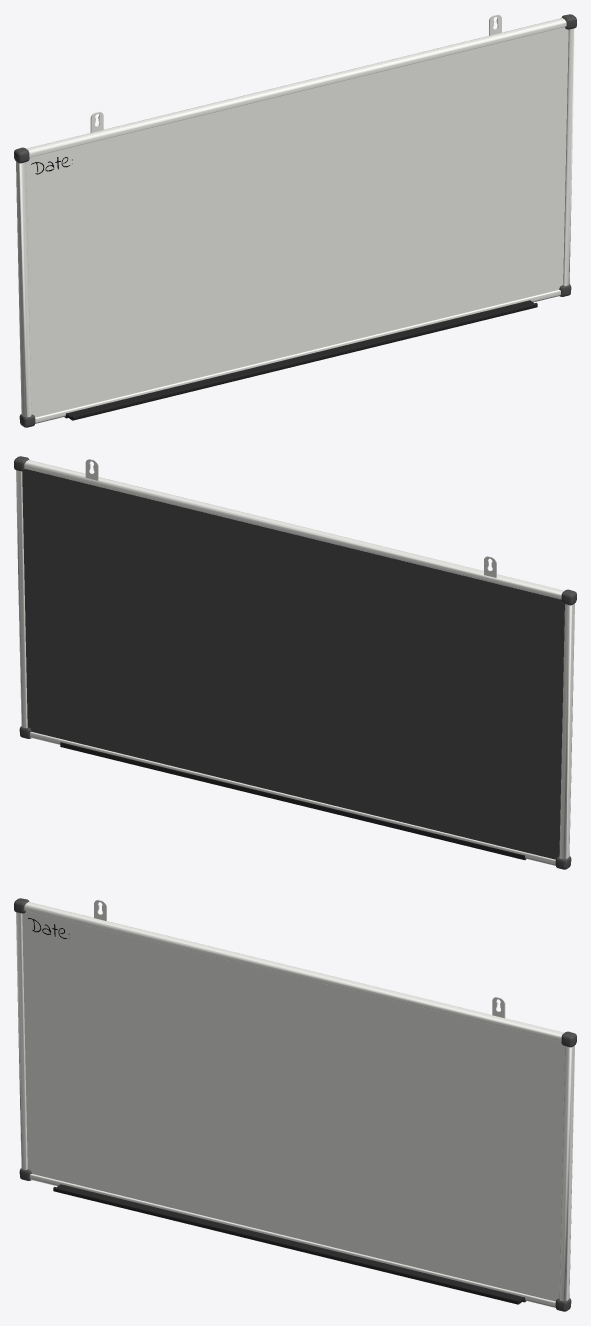
3 views of the same model, one above another, from view 1: azimuth 30°, elevation 25°; view 2: azimuth 150°, elevation 25°; view 3: azimuth 330°, elevation 25° (orthographic).
Parts seen in each view (by area): view 1: White_board; view 2: White_board; view 3: White_board.
Boxes of the visible parts, box(x1,y1,x2,y2) form: White_board: box(14, 14, 576, 427); White_board: box(14, 456, 576, 869); White_board: box(14, 898, 576, 1311).
Size of the model in its own units: 1.36 by 0.6827 by 0.055.
1 material, 1 textured.
